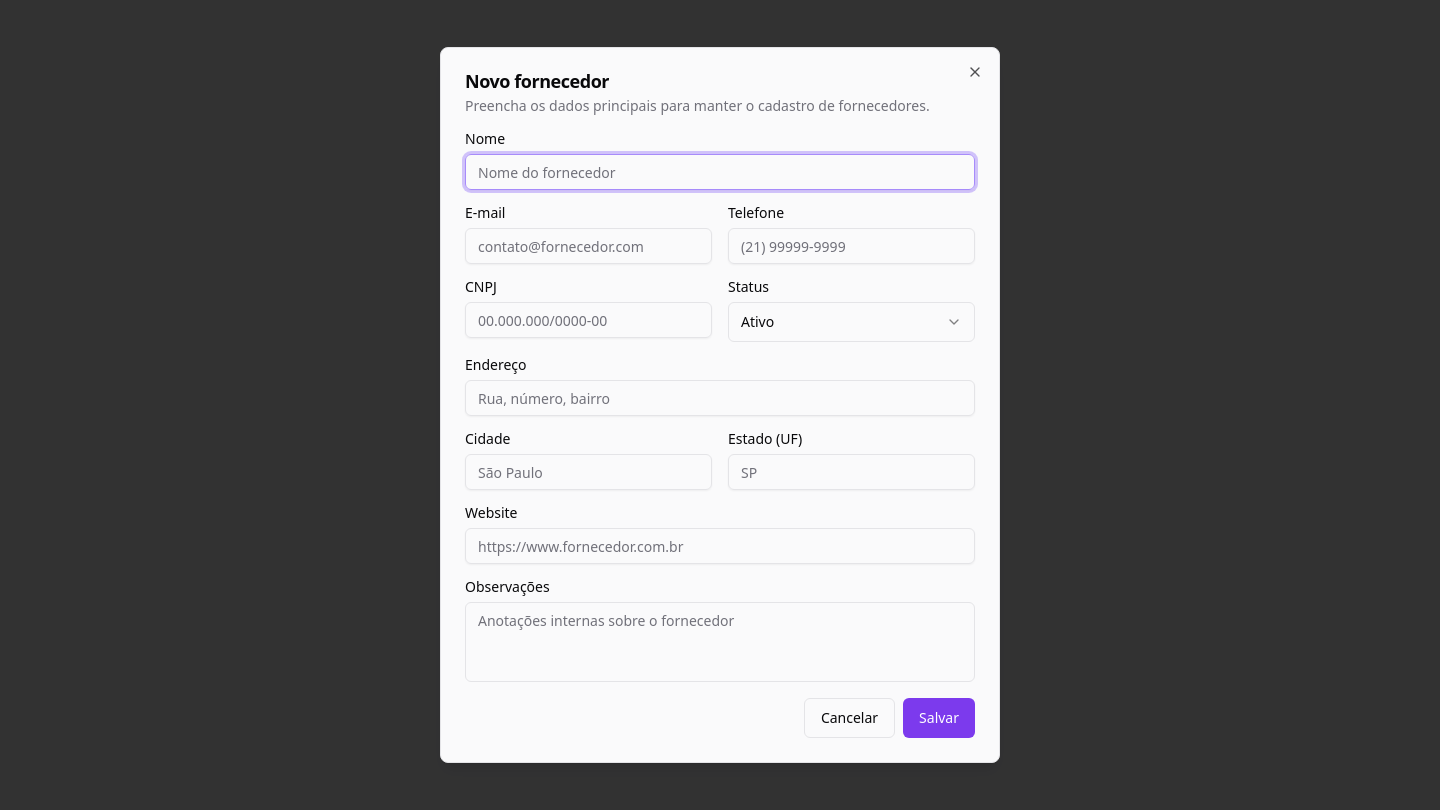
SupplierFormDialog › applies CNPJ mask dot after 3 digits
Type "123456" into the field labelled "CNPJ" at {"x": 588, "y": 320}, box x1=465 y1=302 x2=712 y2=338
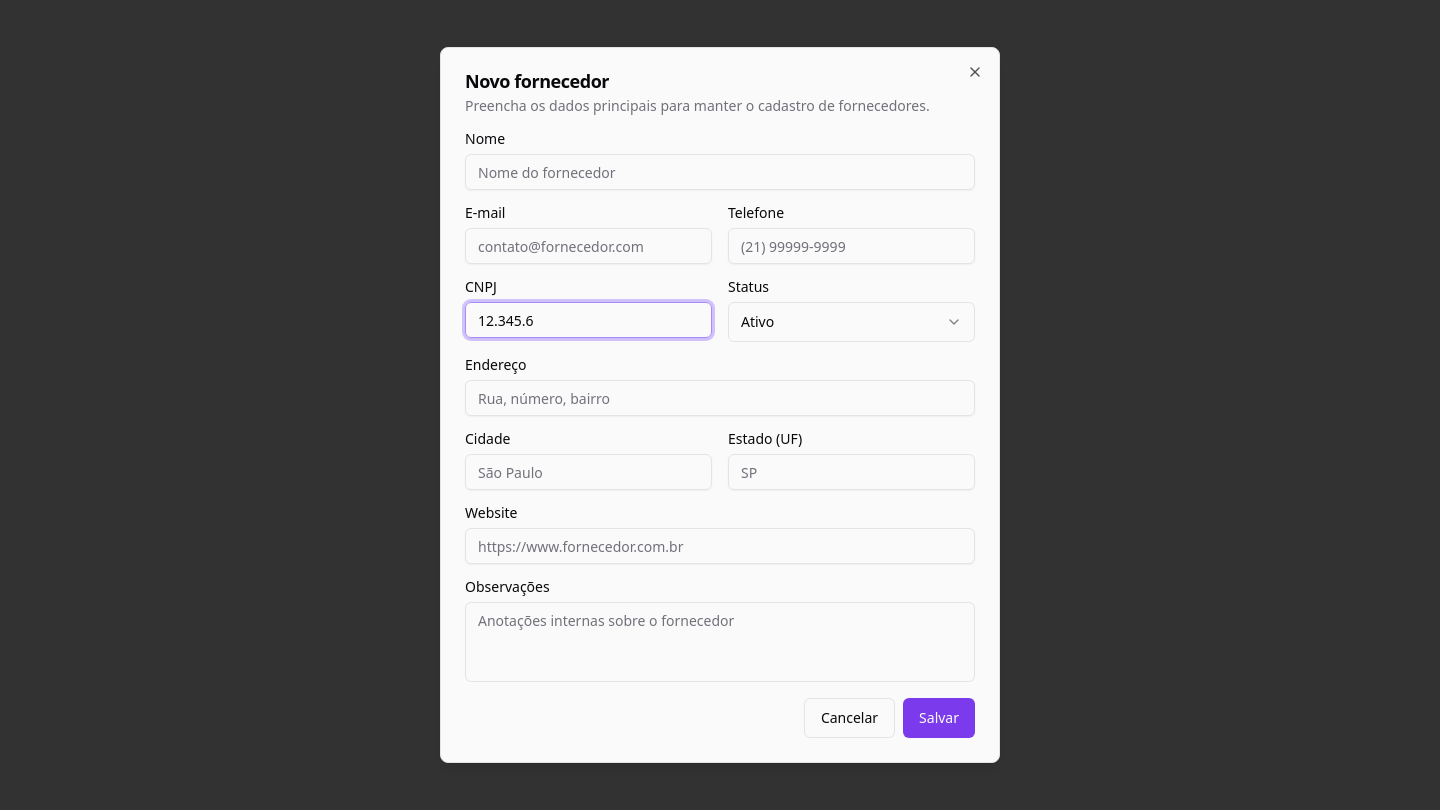
Check: the field labelled "CNPJ" holds "12.345.6", box x1=465 y1=302 x2=712 y2=338
